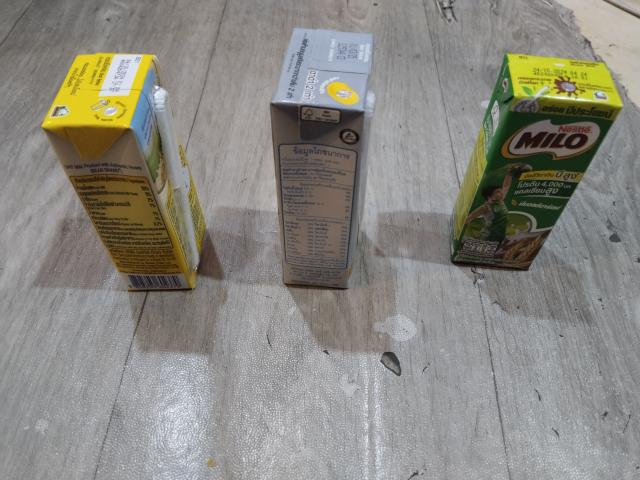drink_box: (29, 42, 219, 300), (438, 46, 628, 281), (254, 21, 390, 299)
